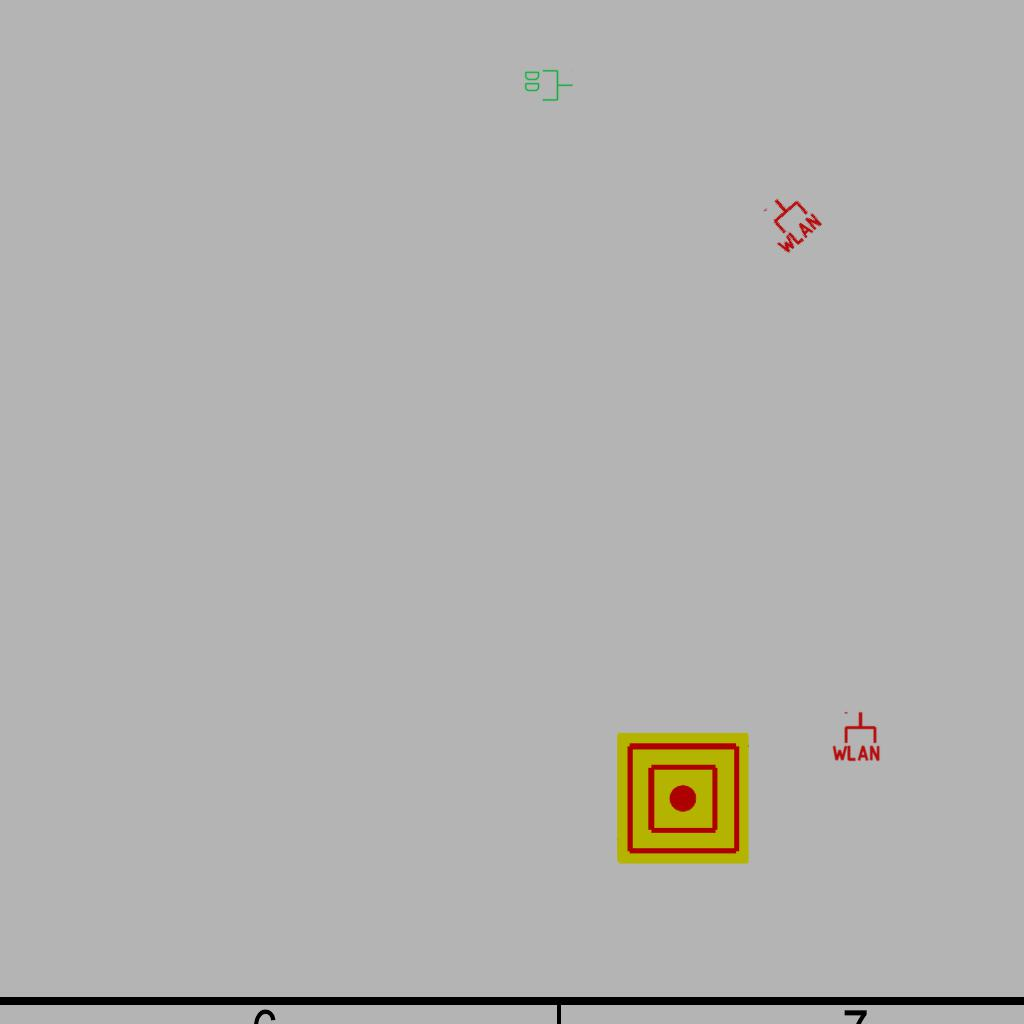Datenanschluss_zweifach: (523, 68, 574, 102)
NAM-Nichtautomatischer_Melder: (617, 732, 749, 864)
WLAN: (751, 184, 825, 258), (830, 710, 882, 762)
